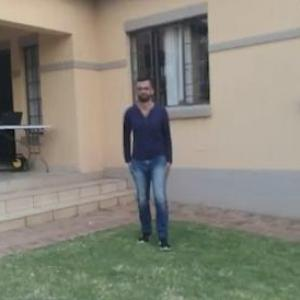follow: (117, 66, 174, 256)
